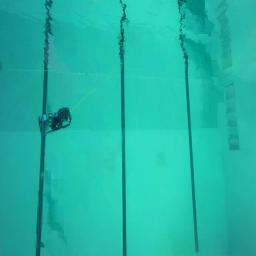front: (38, 107, 71, 137)
